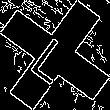L_NE: (28, 26, 82, 84)
